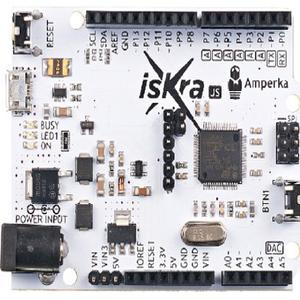duino: (0, 0, 300, 300)
